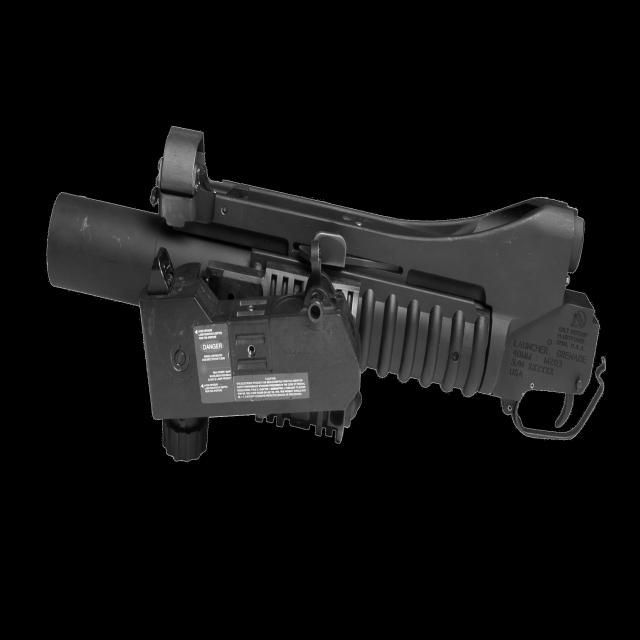Lancher: (45, 98, 611, 520)
